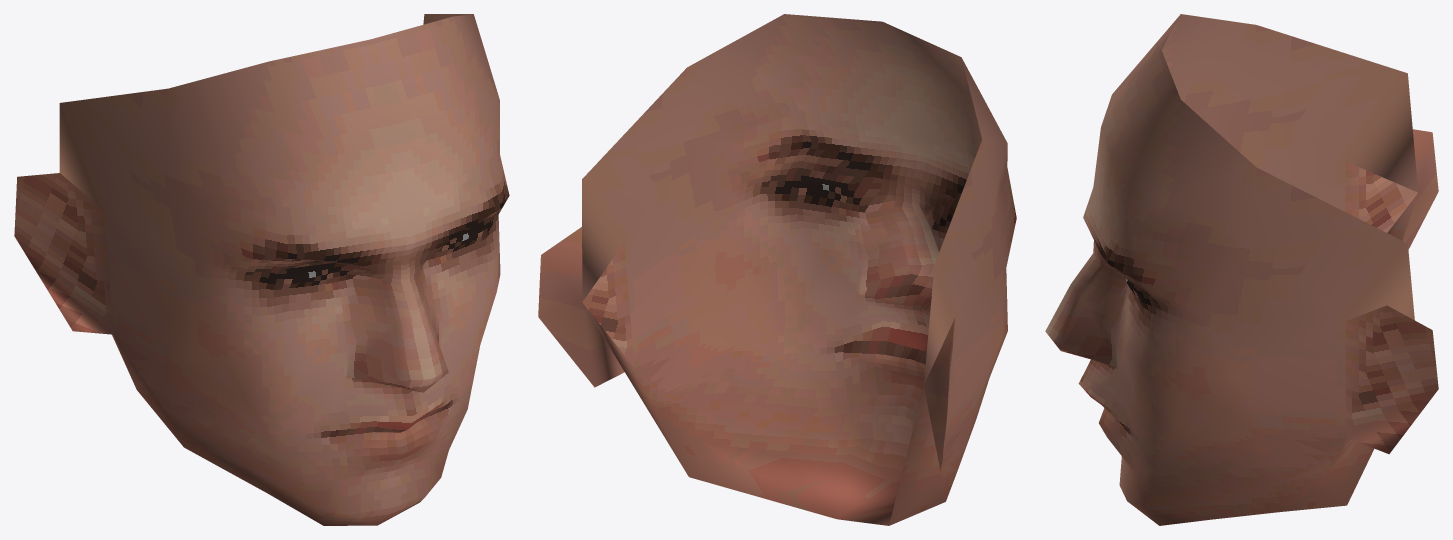
3 views of the same model, side by side, from view 1: azimuth 30°, elevation 25°; view 2: azimuth 150°, elevation 25°; view 3: azimuth 270°, elevation 25° (orthographic). The views are drawn at different scales.
Size of the model in its own units: 17.18 by 18.64 by 14.44.
Materials: 1 (1 with a texture image).
